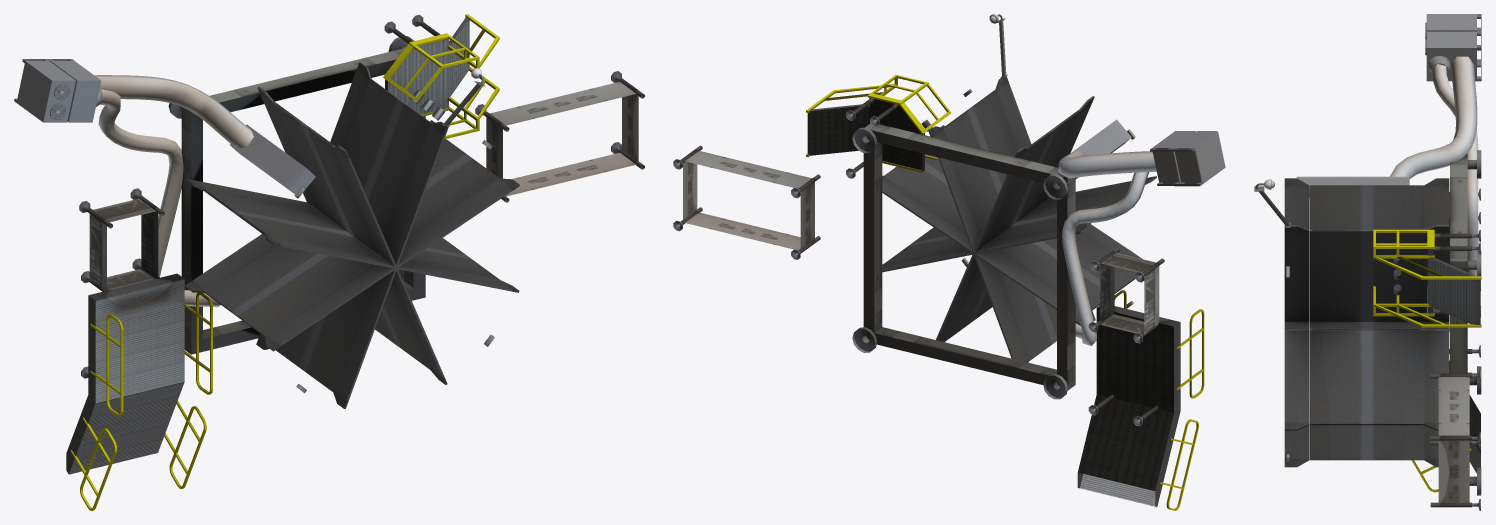
Rendered from HDU_Deck.OBJ.
The picture shows the model from 3 angles, left to right: view 1: azimuth 30°, elevation 25°; view 2: azimuth 150°, elevation 25°; view 3: azimuth 270°, elevation 25°; orthographic projection. The views are drawn at different scales.
Parts seen in each view (by area): view 1: HDU_Deck_HDU_lowRez_part2; view 2: HDU_Deck_HDU_lowRez_part2; view 3: HDU_Deck_HDU_lowRez_part2.
Part boxes in pixels (left/top/right/bottom): HDU_Deck_HDU_lowRez_part2: left=14, top=14, right=644, bottom=510; HDU_Deck_HDU_lowRez_part2: left=673, top=14, right=1225, bottom=510; HDU_Deck_HDU_lowRez_part2: left=1254, top=14, right=1481, bottom=510.
Size of the model in its own units: 6.1 by 4.26 by 2.1.
1 material, 1 textured.
